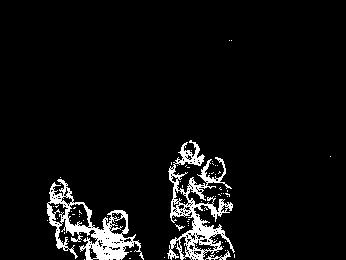person: (170, 136, 197, 228)
